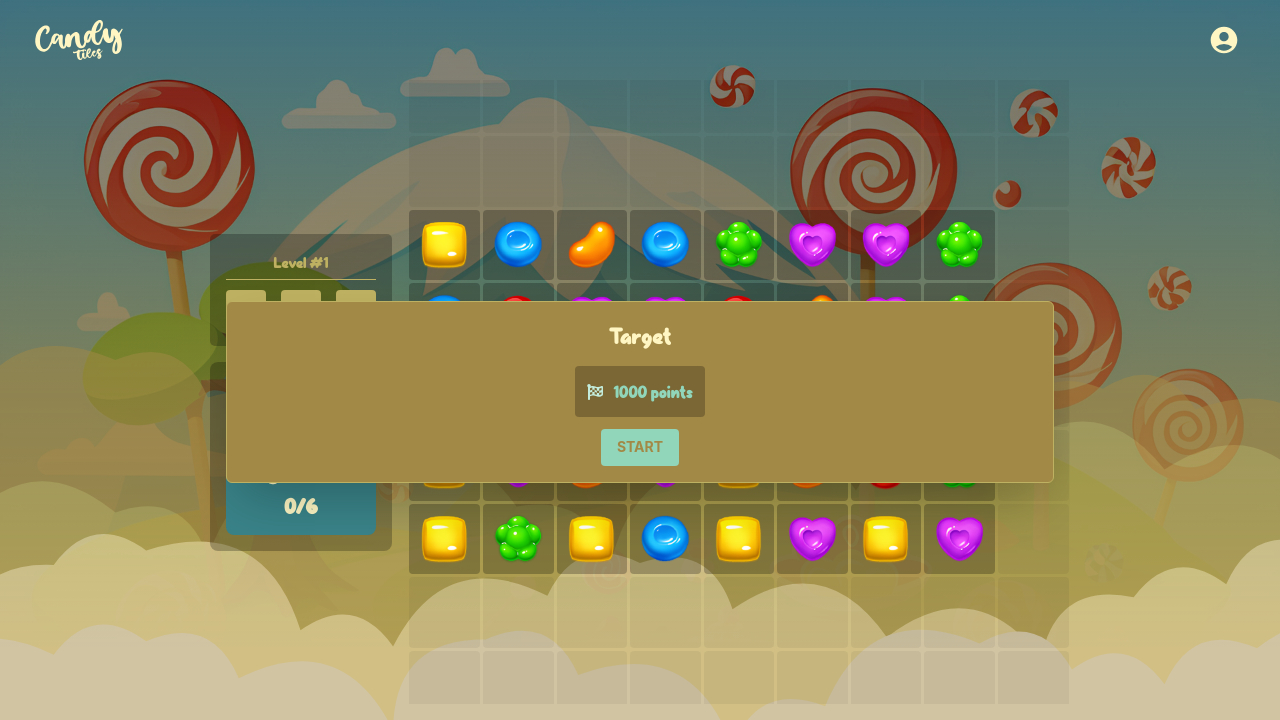
Scenario: Left panel › clicking on the reset button should reset the current level
This screenshot has width=1280, height=720.
Click the button "Start".
click(640, 448)  # box [601, 429, 679, 466]
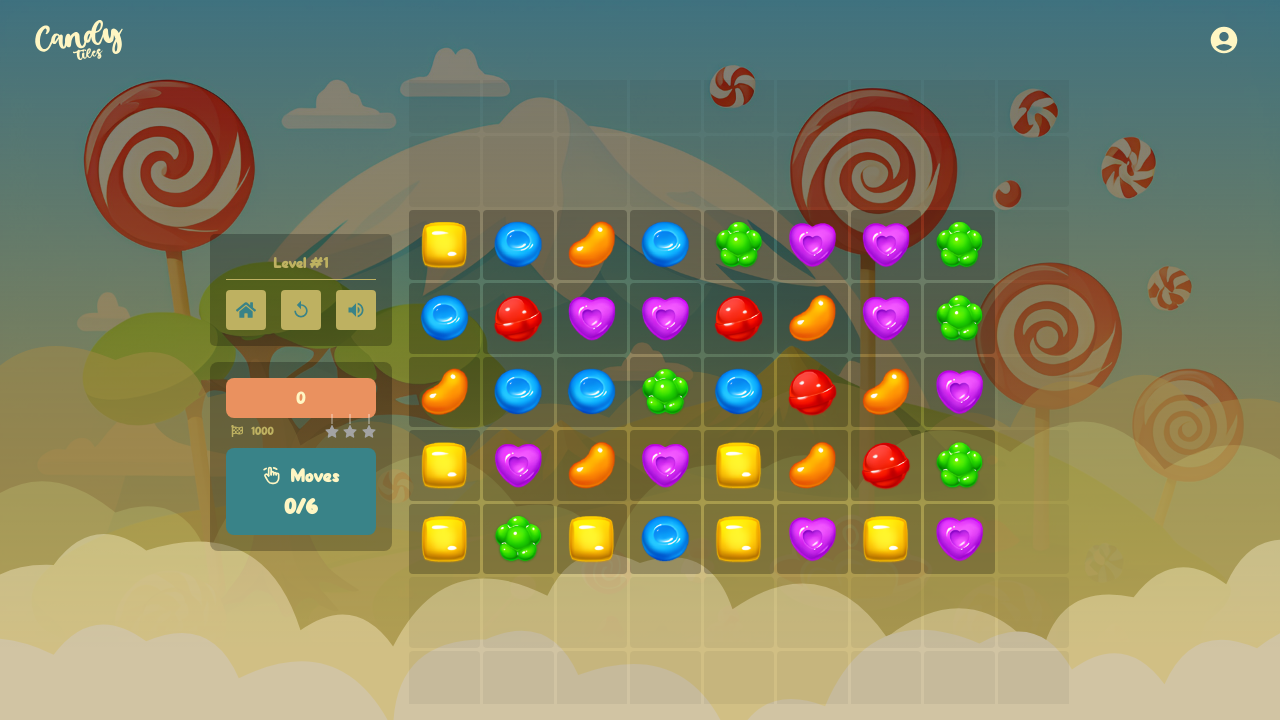
Click the button with test id "left-panel-reset-level-button".
click(301, 310)  # box [281, 290, 321, 330]
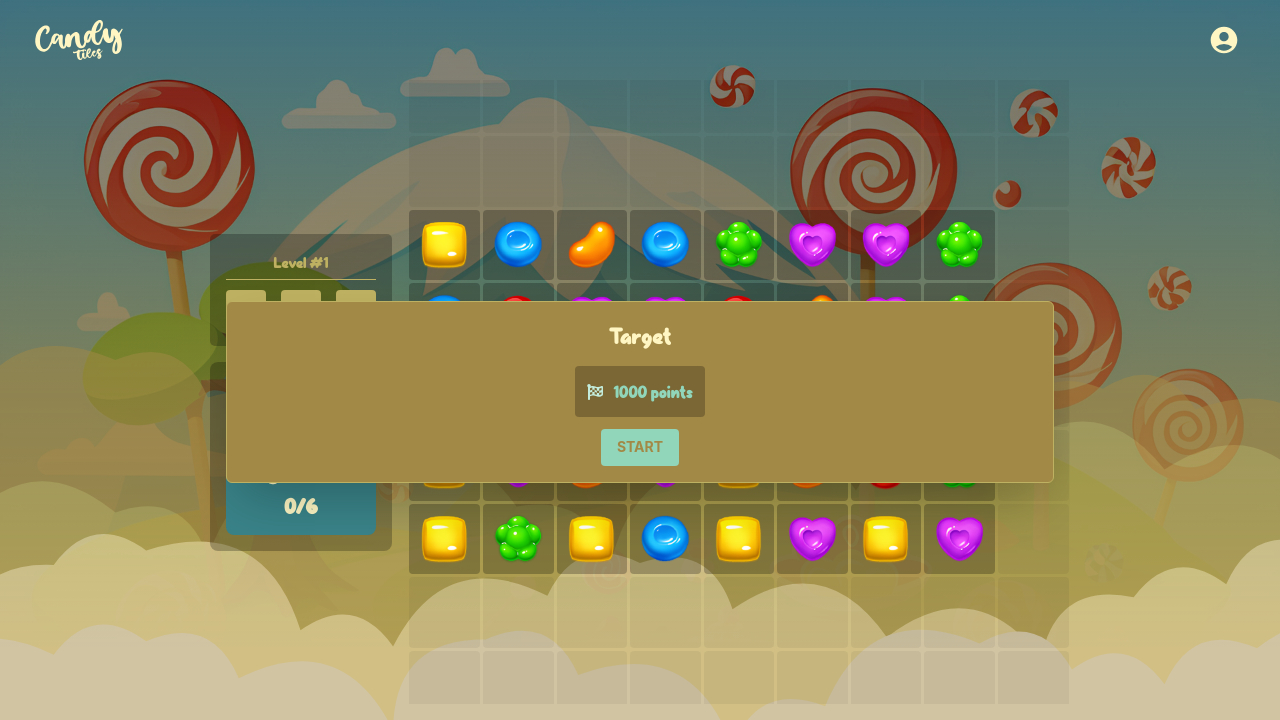
Now the element with test id "start-level-dialog" is shown, box [575, 322, 705, 466]
